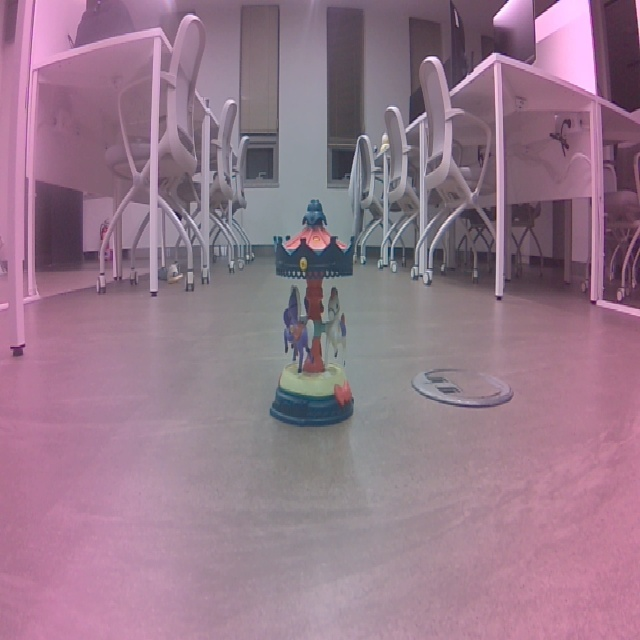목적지: (327, 177, 446, 405)
